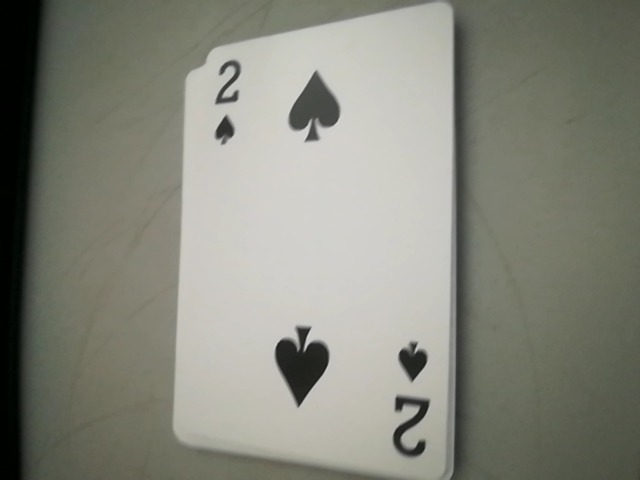ht 2: (193, 56, 258, 156)
